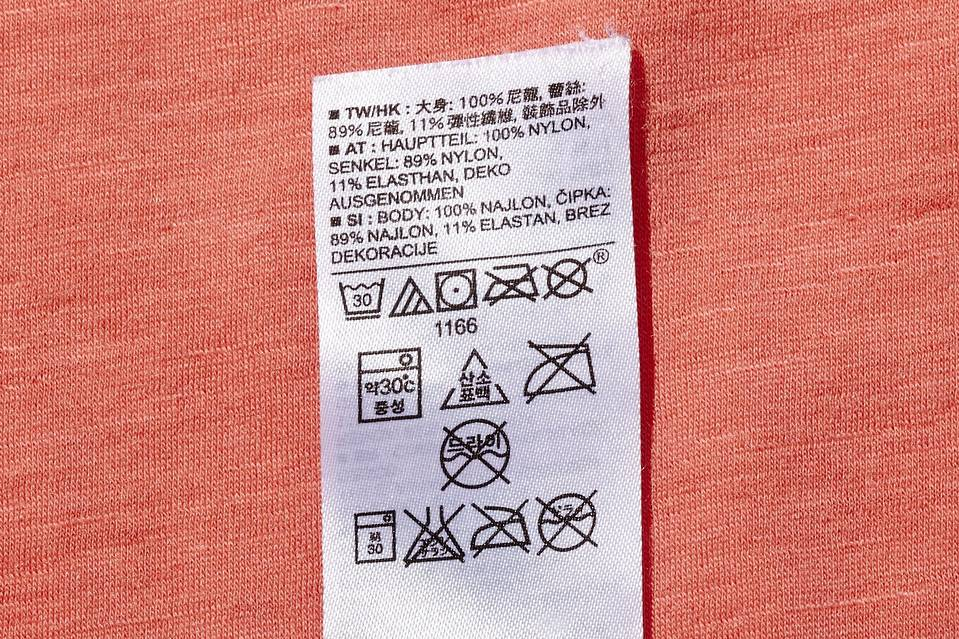ER_no_dry_clean: (539, 254, 598, 299)
ER_no_iron: (478, 259, 544, 309)
ER_non_chlorine_bleach: (389, 275, 434, 321)
ER_tumble_dry_low_heat: (433, 266, 478, 316)
ER_wash_30_mild: (334, 275, 389, 325)
KR_hand_wash_30_neutral: (349, 339, 432, 430)
KR_no_dry_clean: (432, 416, 519, 498)
KR_no_iron: (520, 331, 599, 405)
KR_oxygen_bleach: (440, 347, 514, 414)
